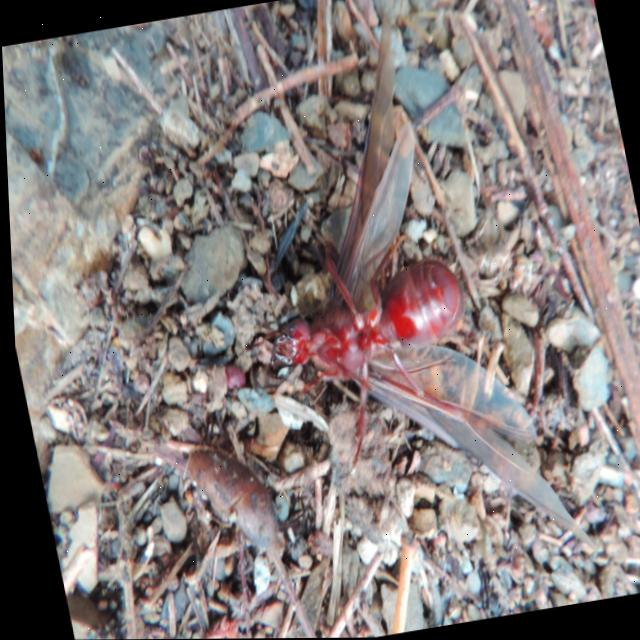Alive-Female-Alate: (232, 213, 595, 605)
